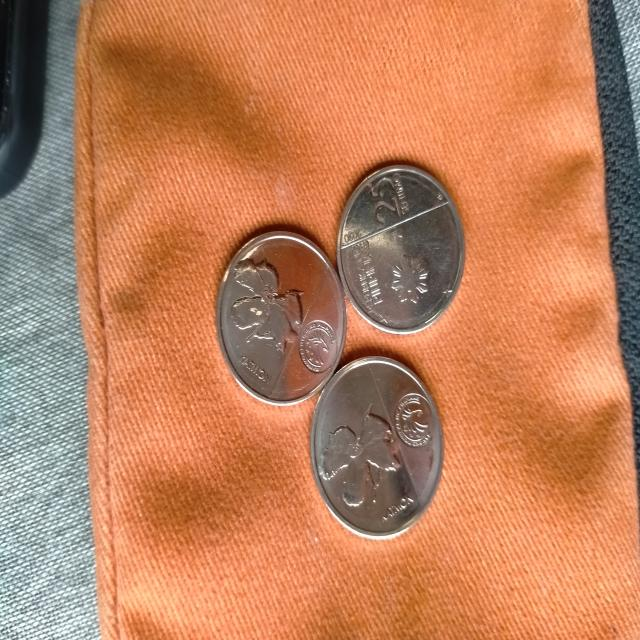25Cent_New_Back: (318, 408, 402, 523), (227, 247, 305, 342)
25Cent_New_Front: (369, 171, 402, 231)
